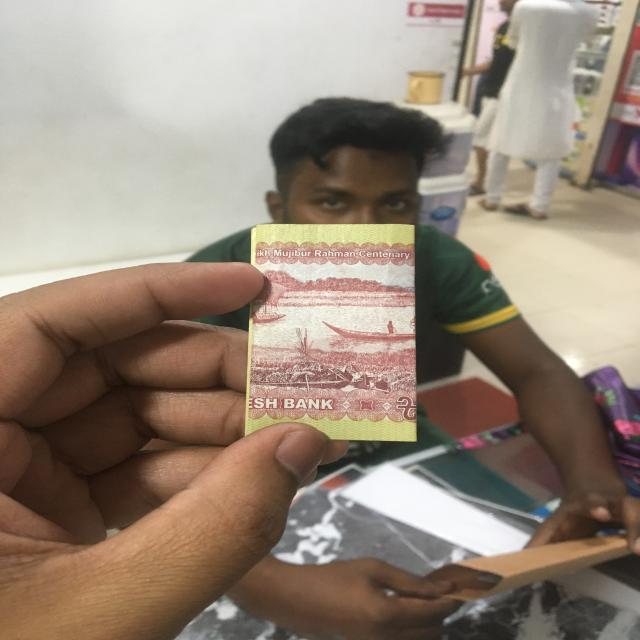Taka: (257, 223, 420, 444)
